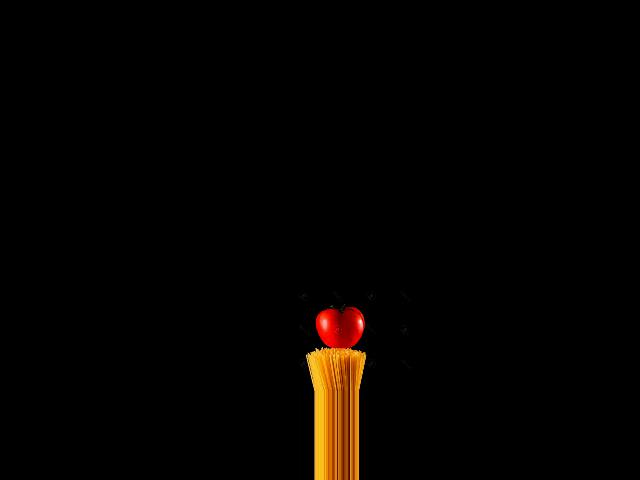tomato: (315, 306, 363, 348)
